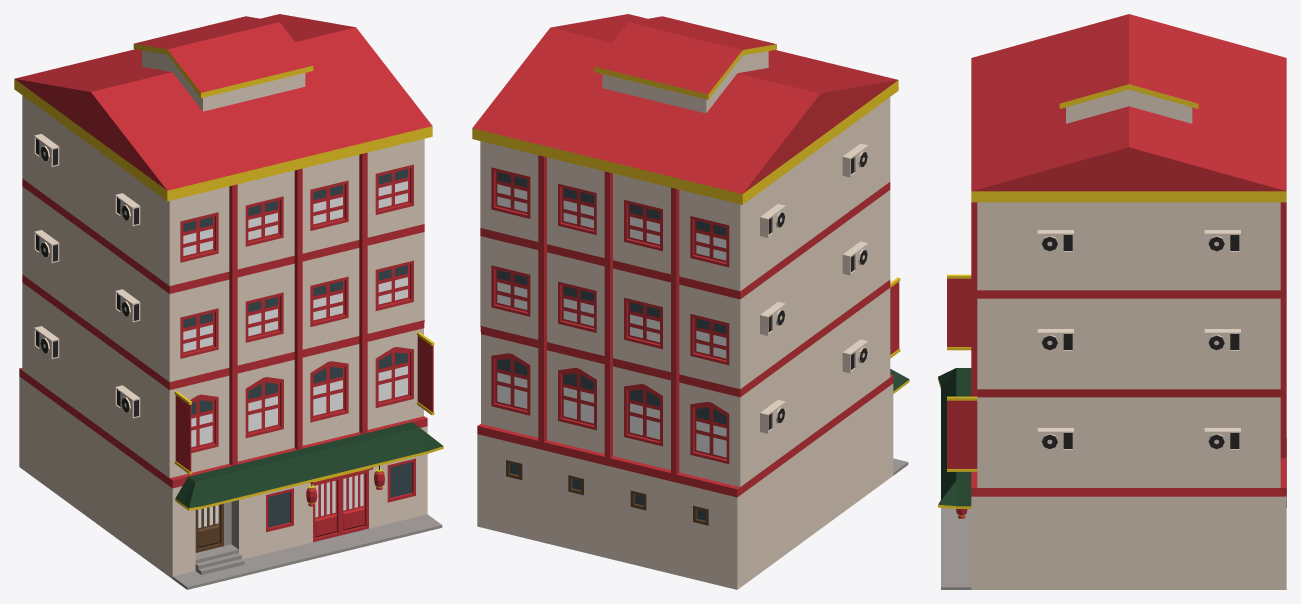
File: buildings_building-apartment-china.fbx
3 renders of one model, left to right at view 1: azimuth 30°, elevation 25°; view 2: azimuth 150°, elevation 25°; view 3: azimuth 270°, elevation 25°, orthographic. The views are drawn at different scales.
Parts seen in each view (by area): view 1: buildings_building_apartment_china; view 2: buildings_building_apartment_china; view 3: buildings_building_apartment_china.
Part boxes in pixels (x1,y1,x2,y2): buildings_building_apartment_china: (14,14,443,589); buildings_building_apartment_china: (472,14,909,589); buildings_building_apartment_china: (938,14,1286,589).
Size of the model in its own units: 125 by 200 by 135.
